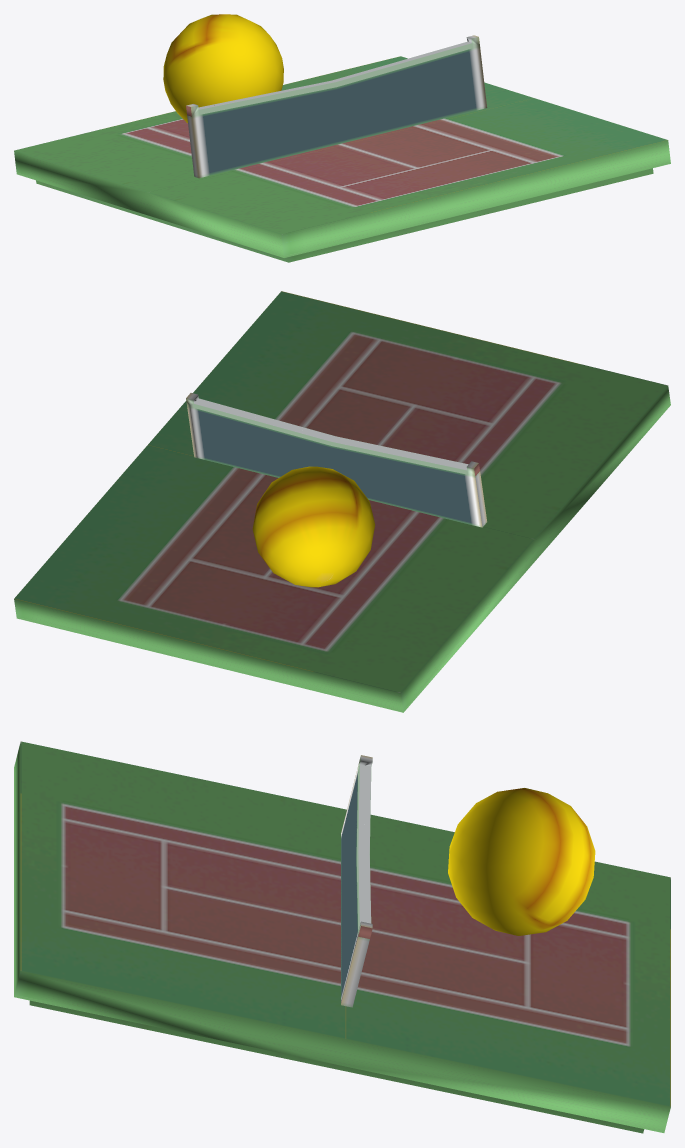
Rendered from NGTRG.ICO.obj.
3 views of the same model, one above another, from view 1: azimuth 30°, elevation 25°; view 2: azimuth 150°, elevation 25°; view 3: azimuth 270°, elevation 25° (orthographic). The views are drawn at different scales.
Size of the model in its own units: 3.26 by 1.35 by 3.95.
Materials: 1 (1 with a texture image).
